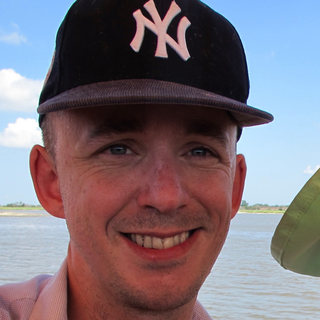eye: (84, 138, 147, 163), (174, 139, 223, 167)
